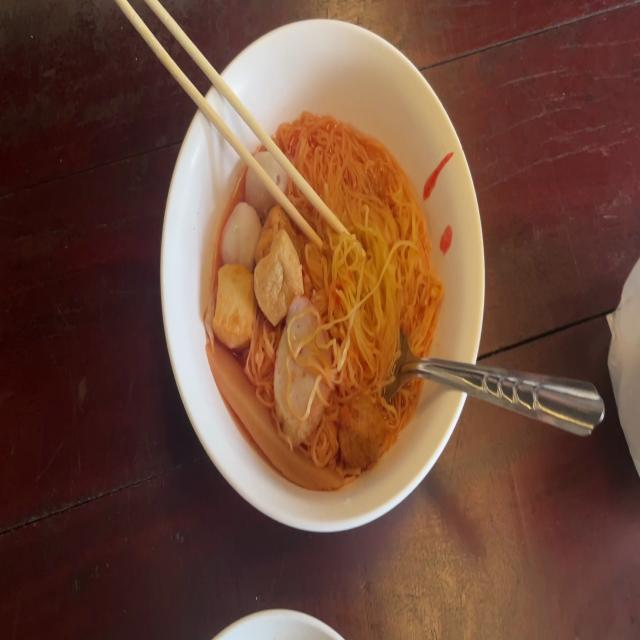crunchy_squid: (204, 340, 344, 487)
egg_noodles: (272, 101, 450, 451)
fish_ball: (219, 200, 262, 272), (246, 152, 290, 214)
fried_fish_balls: (274, 294, 331, 439)
fried_tofu: (256, 208, 300, 321)
noodle: (209, 109, 445, 492)
tofu: (214, 267, 256, 349)
